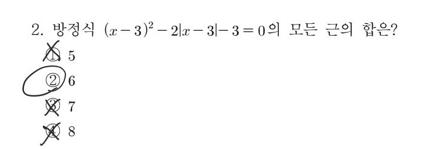1: (19, 65, 67, 98)
paper: (43, 44, 62, 65), (43, 70, 62, 91), (42, 94, 61, 115), (42, 121, 61, 141)
